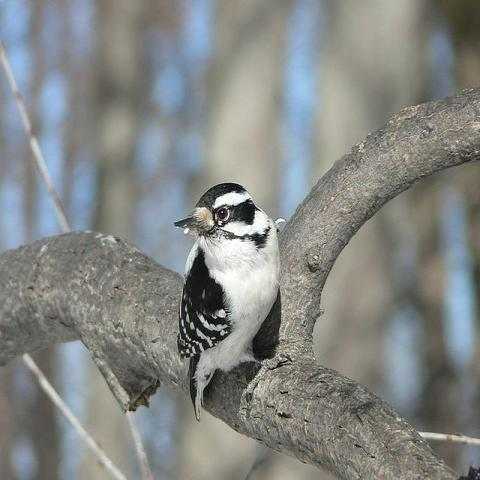bird: (171, 179, 289, 421)
